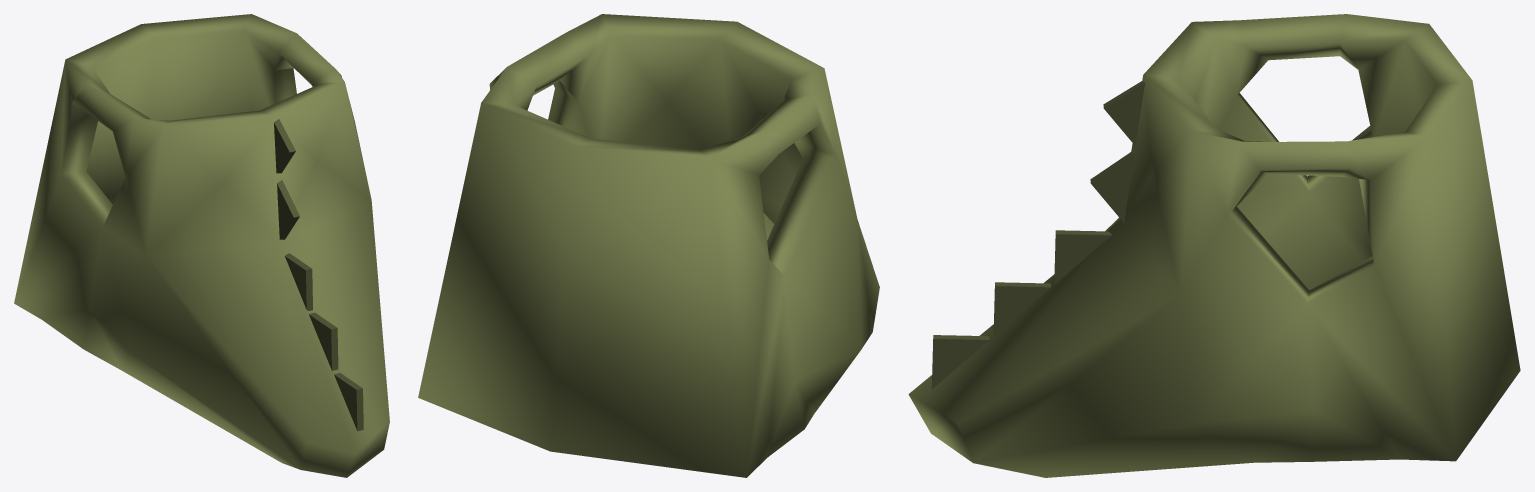
The model's file is DinoBody.gltf.
3 views of the same model, side by side, from view 1: azimuth 30°, elevation 25°; view 2: azimuth 150°, elevation 25°; view 3: azimuth 270°, elevation 25° (orthographic). The views are drawn at different scales.
Visible parts, largest first — view 1: Goopie DO NOT ADD ANIMATIONS.003; view 2: Goopie DO NOT ADD ANIMATIONS.003; view 3: Goopie DO NOT ADD ANIMATIONS.003.
Boxes of the visible parts, <box> form: Goopie DO NOT ADD ANIMATIONS.003: <box>14,14,389,477</box>; Goopie DO NOT ADD ANIMATIONS.003: <box>418,14,879,477</box>; Goopie DO NOT ADD ANIMATIONS.003: <box>908,14,1520,477</box>.
Bounding box in the file's own units: 0.4317 × 0.4924 × 0.6901.
Materials: 1 (1 with a texture image).
